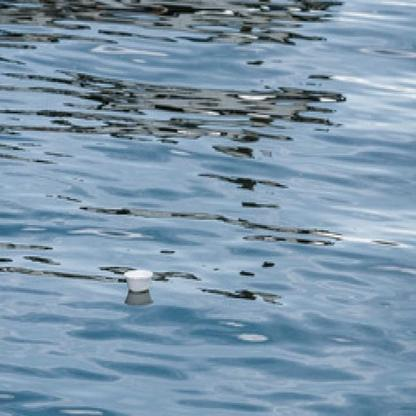foam: (125, 263, 152, 294)
